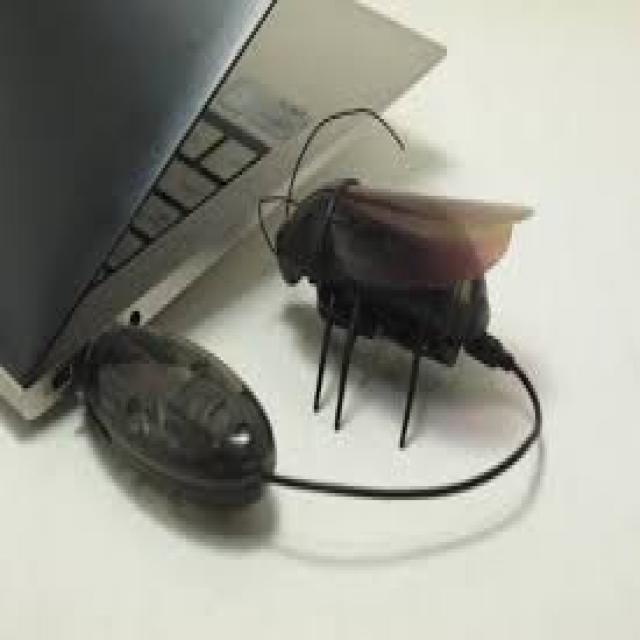Cockroach: (251, 91, 539, 441)
